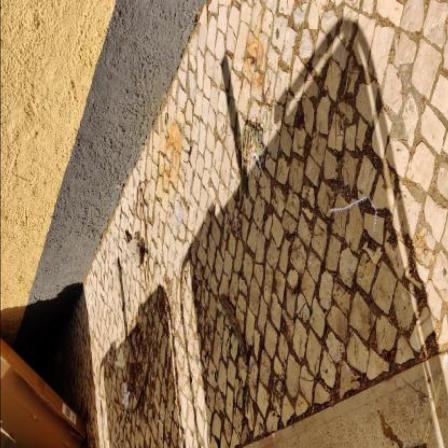Bottle cap: (166, 114, 169, 125)
Carton: (1, 339, 87, 448)
Cigarette: (234, 192, 237, 201)
Lid: (174, 203, 183, 232)
Paper: (331, 197, 379, 233), (250, 131, 267, 180), (122, 385, 131, 411), (116, 348, 127, 368)
Unlabeled litter: (129, 238, 141, 270), (236, 215, 238, 224)
